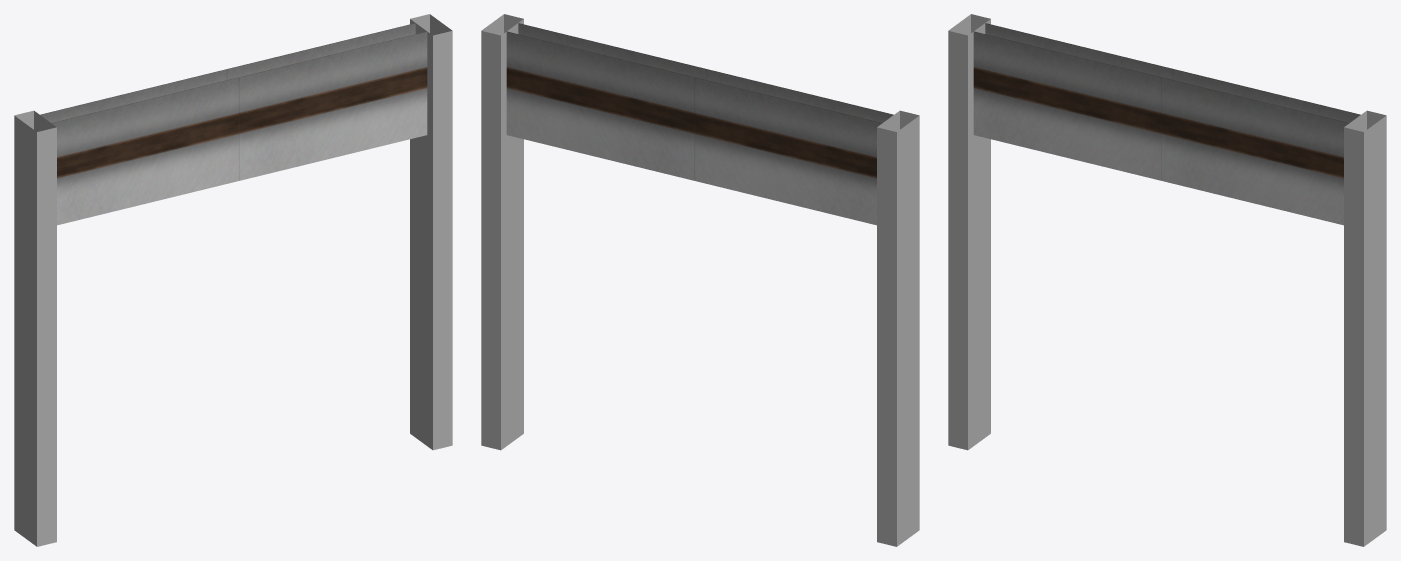
Rendered from house_enterance_4.fbx.
3 views of the same model, side by side, from view 1: azimuth 30°, elevation 25°; view 2: azimuth 150°, elevation 25°; view 3: azimuth 330°, elevation 25° (orthographic).
Visible parts, largest first — view 1: house_enterance_4; view 2: house_enterance_4; view 3: house_enterance_4.
Boxes of the visible parts, left/top/right/bottom form: house_enterance_4: left=14, top=14, right=452, bottom=546; house_enterance_4: left=481, top=14, right=919, bottom=546; house_enterance_4: left=948, top=14, right=1386, bottom=546.
Size of the model in its own units: 419 by 400 by 40.
